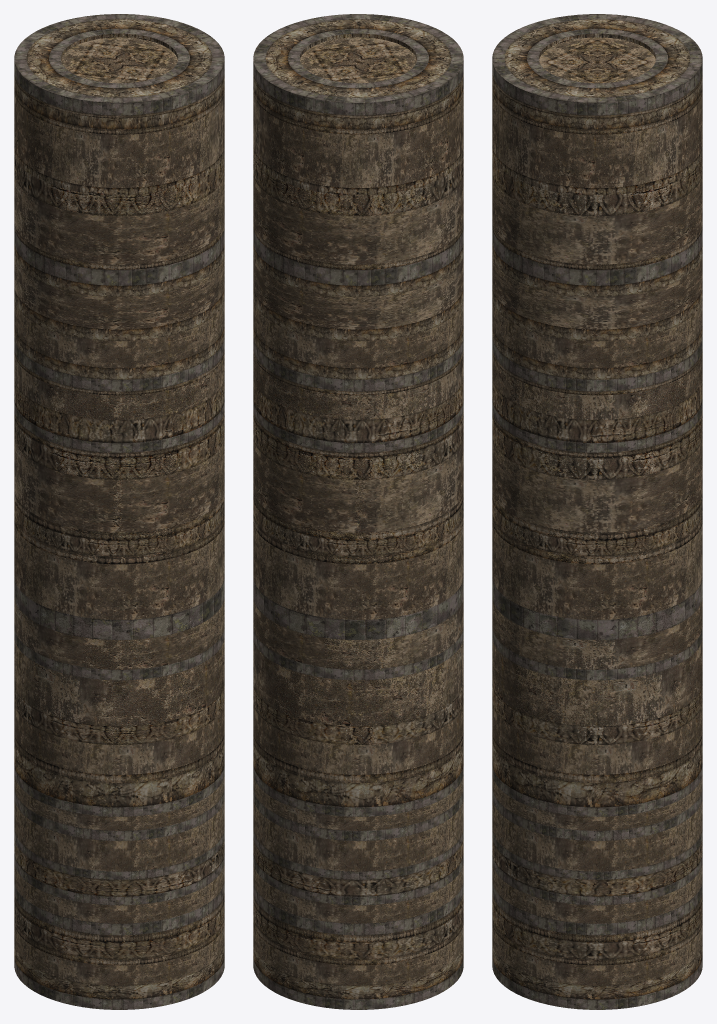
File: materials_5_pillar_fat_0.fbx
3 renders of one model, left to right at view 1: azimuth 30°, elevation 25°; view 2: azimuth 150°, elevation 25°; view 3: azimuth 270°, elevation 25°, orthographic.
Visible parts, largest first — view 1: materials_5_pillar_fat_0; view 2: materials_5_pillar_fat_0; view 3: materials_5_pillar_fat_0.
Boxes of the visible parts, x1,y1,x2,y2 form: materials_5_pillar_fat_0: (14, 14, 224, 1009); materials_5_pillar_fat_0: (253, 14, 463, 1009); materials_5_pillar_fat_0: (492, 14, 702, 1009).
Size of the model in its own units: 135 by 640 by 135.
